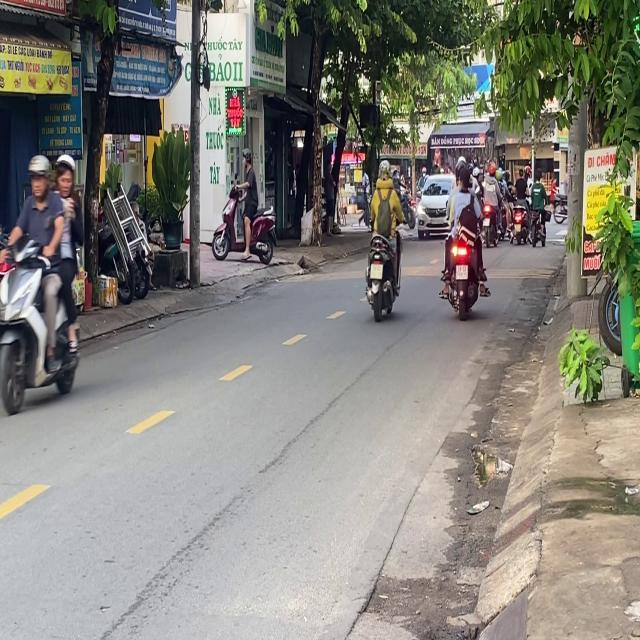helmet: (27, 152, 51, 200), (54, 153, 76, 195), (377, 158, 391, 182), (454, 160, 467, 179)
licenseplate: (0, 150, 84, 413), (438, 154, 488, 318), (362, 158, 404, 318)
motorcyclist: (458, 167, 472, 195)
nohelmet: (370, 264, 383, 279), (456, 264, 468, 280)
